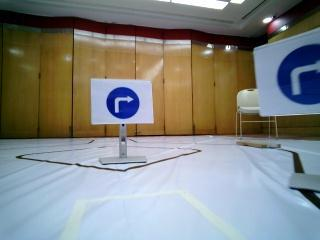right: (262, 46, 320, 112), (91, 79, 152, 124)
